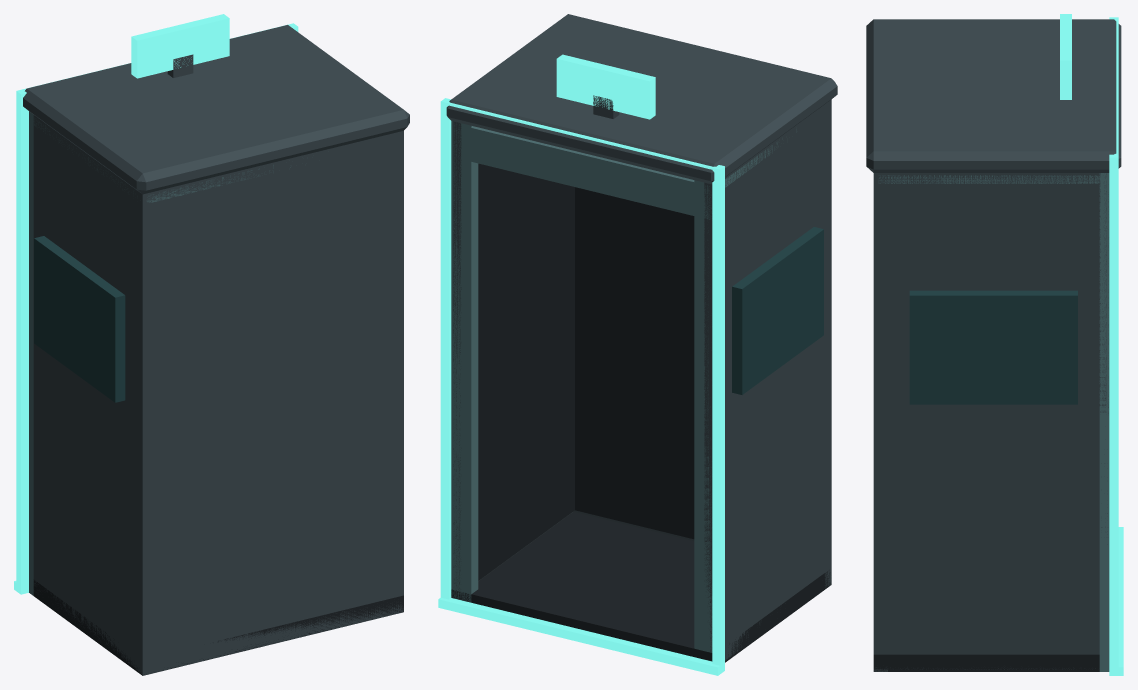
File: Env_Closet.fbx
3 views of the same model, side by side, from view 1: azimuth 30°, elevation 25°; view 2: azimuth 150°, elevation 25°; view 3: azimuth 270°, elevation 25° (orthographic). The views are drawn at different scales.
Visible parts, largest first — view 1: Env_Closet; view 2: Env_Closet; view 3: Env_Closet.
Part boxes in pixels (x1=…): Env_Closet: x1=14, y1=14, x2=409, y2=675; Env_Closet: x1=438, y1=14, x2=837, y2=675; Env_Closet: x1=866, y1=14, x2=1123, y2=675.
Size of the model in its own units: 1.4 by 1.07 by 2.61.
